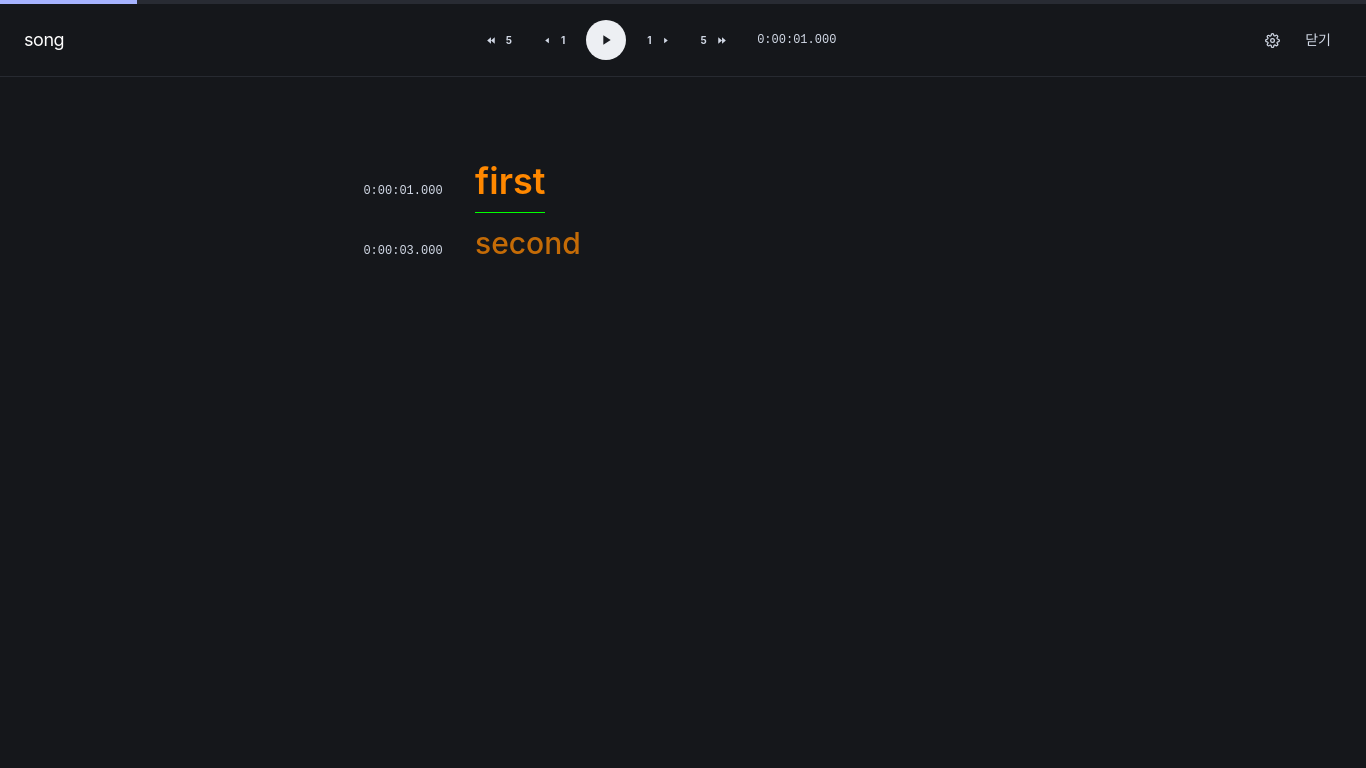
ignores composition Enter and Escape while editing timestamps
Click the button "0:00:01.000" at (403, 191), box [347,177,459,205]
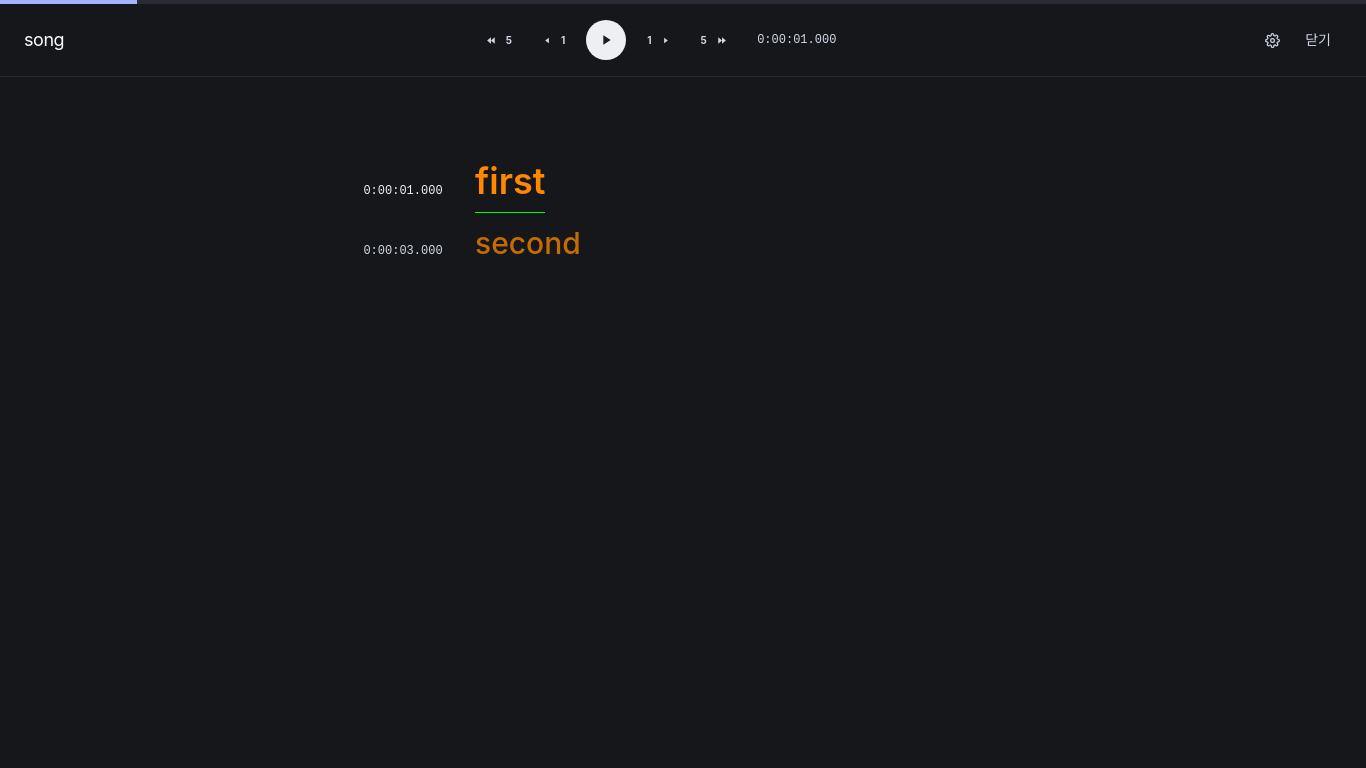
Replace the text in the field with "00:02.00" at (403, 191), box [347,177,459,205]
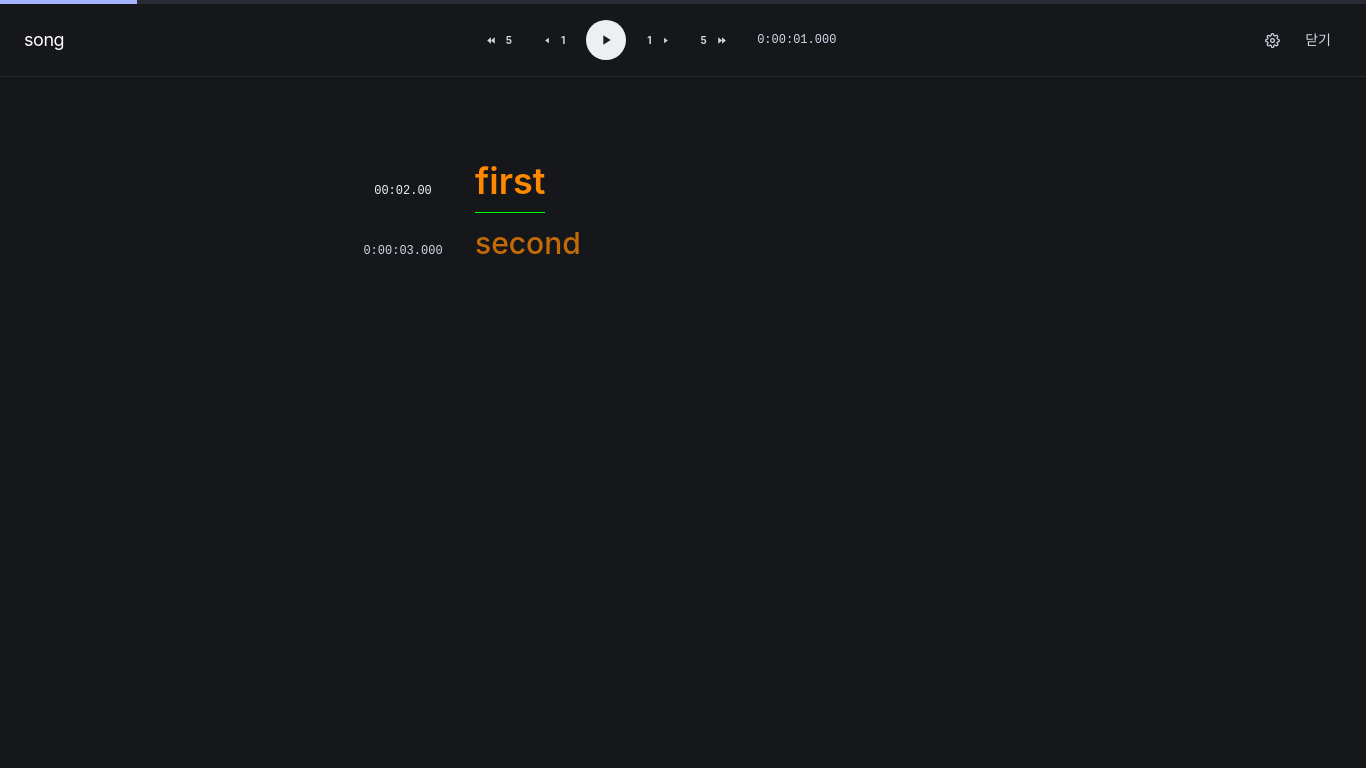
Press Enter in the field, box [347,177,459,205]
Press Escape in the field, box [347,177,459,205]
Press Escape in the field, box [347,177,459,205]
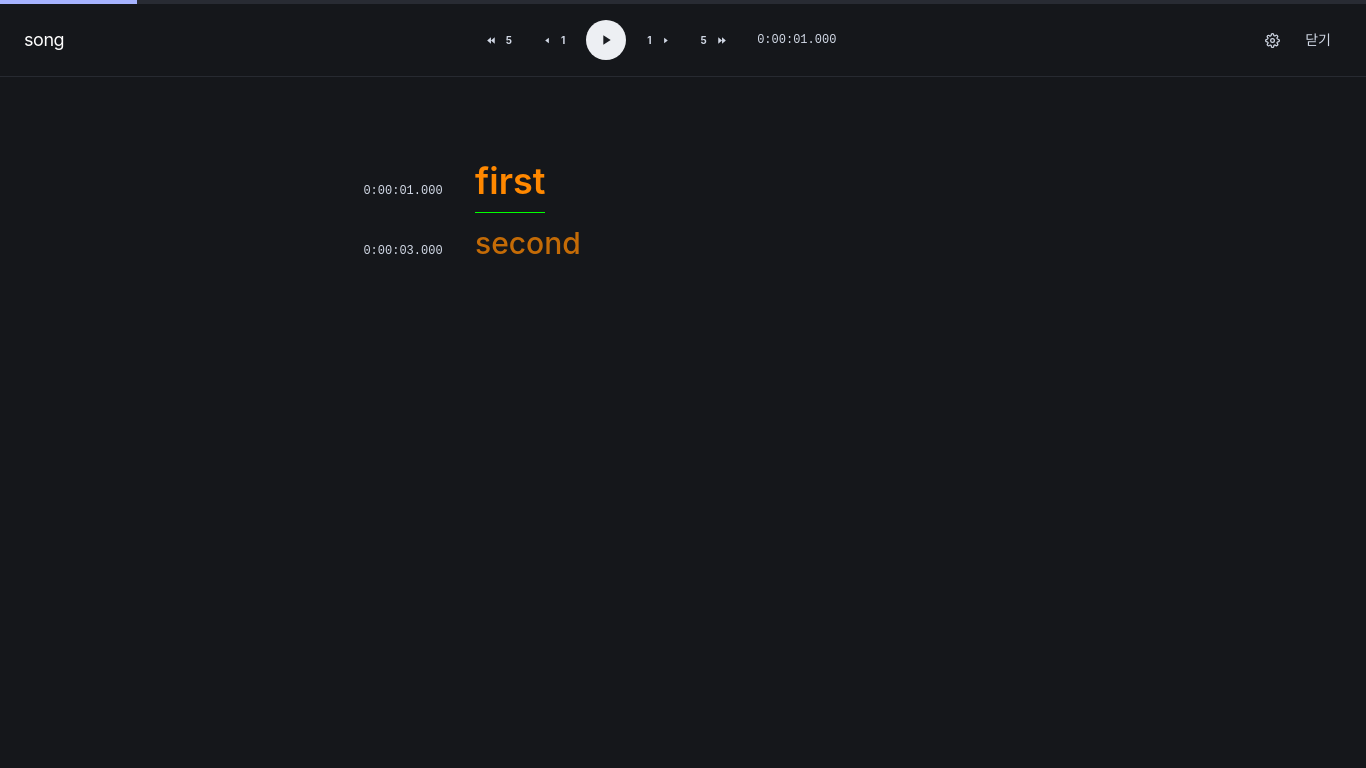
Expected: the field is gone
